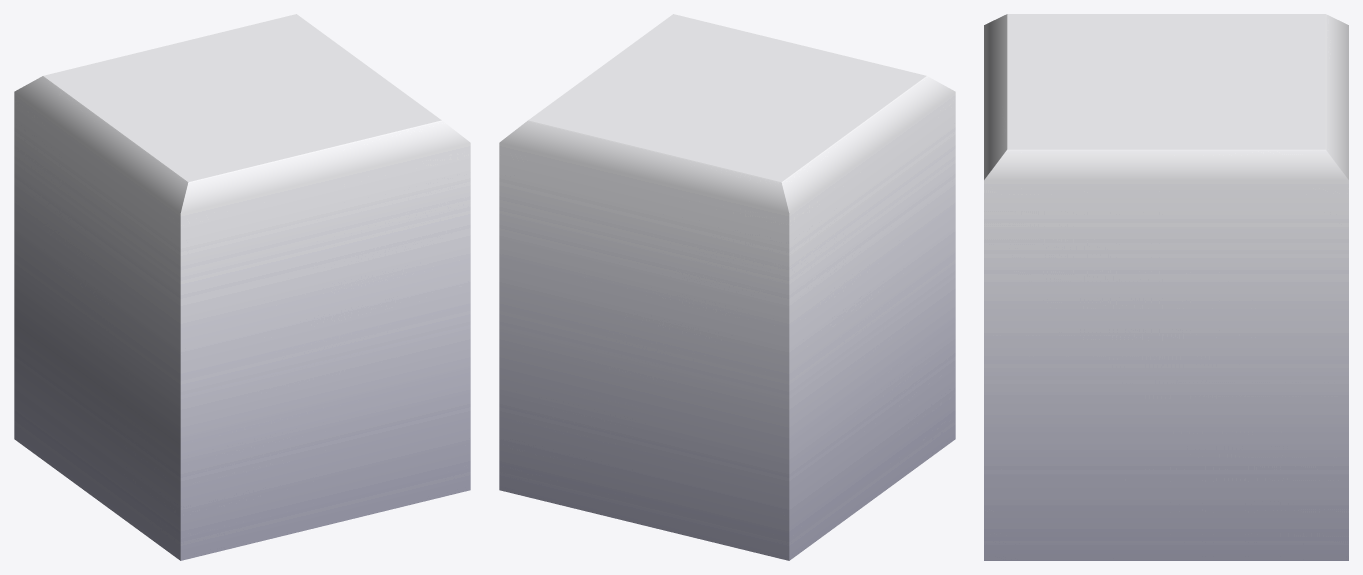
The model's file is none-hq-brick-1x1.glb.
The picture shows the model from 3 angles, left to right: view 1: azimuth 30°, elevation 25°; view 2: azimuth 150°, elevation 25°; view 3: azimuth 270°, elevation 25°; orthographic projection. The views are drawn at different scales.
Visible parts, largest first — view 1: none-hq-brick-1x1; view 2: none-hq-brick-1x1; view 3: none-hq-brick-1x1.
Part boxes in pixels (bbox=[...]): none-hq-brick-1x1: bbox=[14, 14, 470, 560]; none-hq-brick-1x1: bbox=[499, 14, 955, 560]; none-hq-brick-1x1: bbox=[984, 14, 1348, 560].
Bounding box in the file's own units: 0.0795 × 0.096 × 0.079.
Materials: 1 (1 with a texture image).
